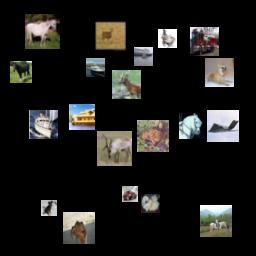airplane: (207, 110, 239, 142)
automobile: (122, 186, 138, 202)
cat: (158, 29, 177, 48)
deer: (97, 131, 132, 166), (93, 18, 128, 53), (112, 70, 141, 99)
dog: (205, 58, 234, 87), (141, 194, 160, 213), (41, 200, 57, 216)
frog: (137, 120, 169, 152), (63, 212, 95, 244)
ship: (29, 110, 58, 139), (69, 104, 95, 130), (134, 47, 153, 66), (86, 58, 105, 77)
truck: (190, 27, 219, 56)
